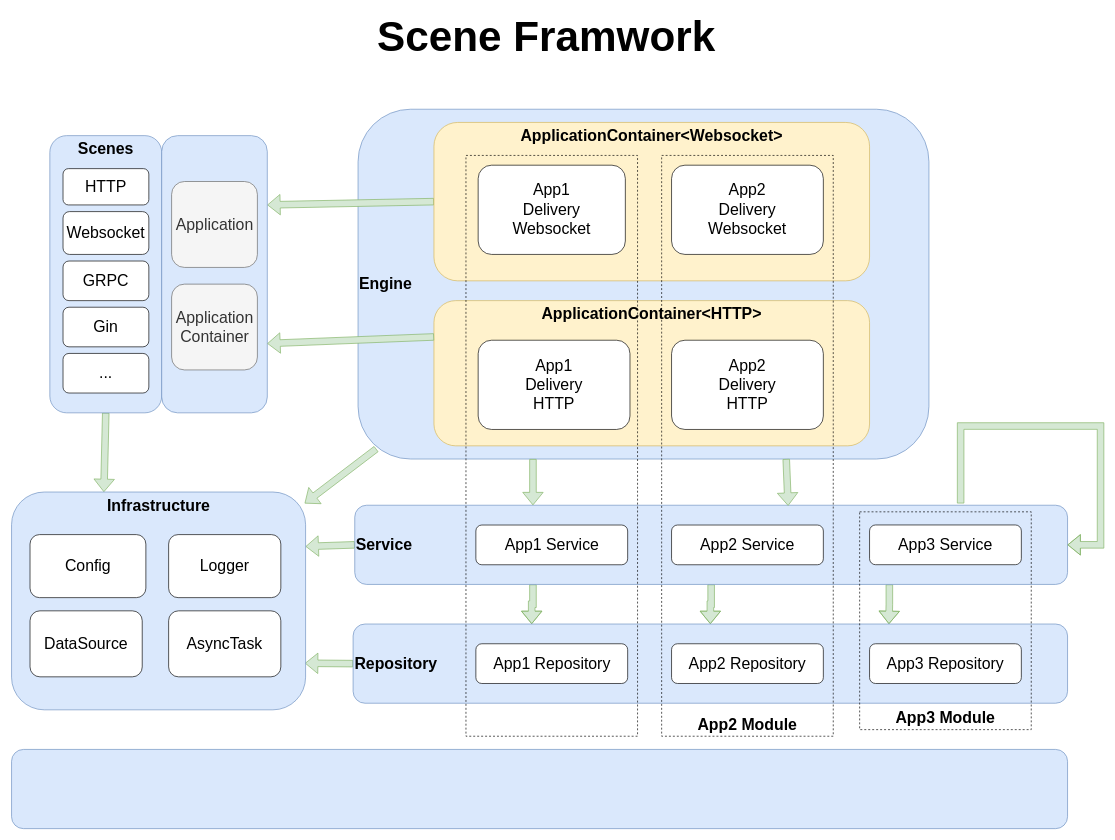
This 1115x840 diagram has some shape labels left out. The centre of each missing label's shape, as x and y in pixels:
App1 Module: pixel 551 445
External Packages: pixel 539 789
